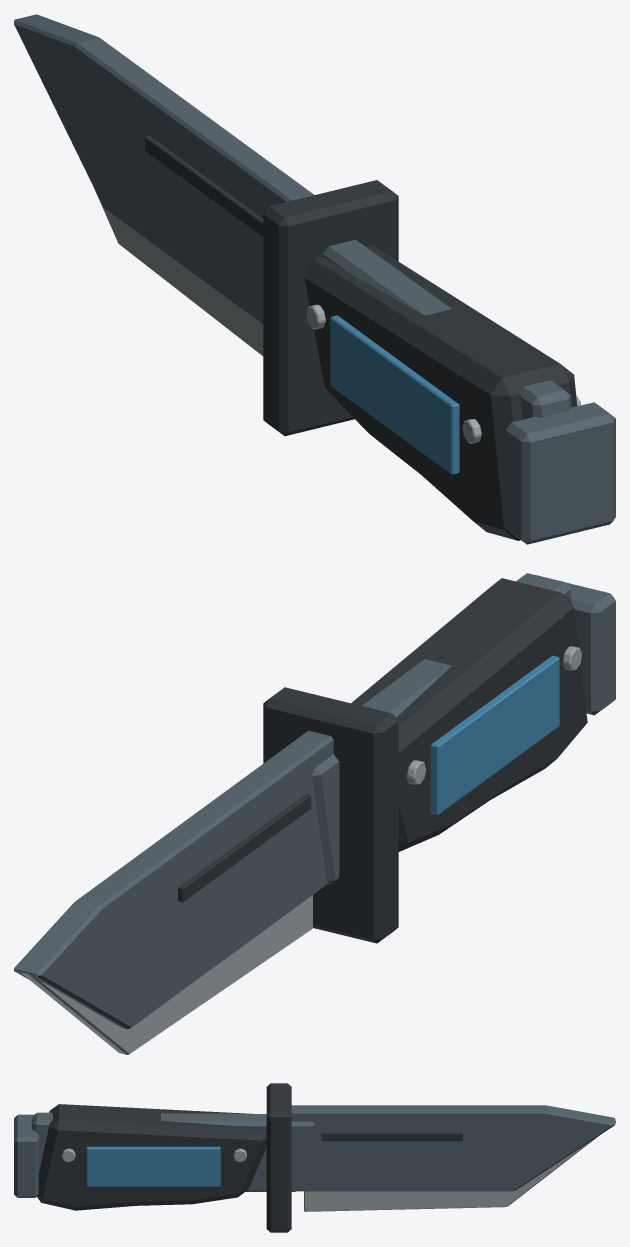
The model's file is wpn_001_survival_knife.glb.
The picture shows the model from 3 angles, top to bottom: view 1: azimuth 30°, elevation 25°; view 2: azimuth 150°, elevation 25°; view 3: azimuth 270°, elevation 25°; orthographic projection. The views are drawn at different scales.
Parts seen in each view (by area): view 1: Mesh; view 2: Mesh; view 3: Mesh.
Boxes of the visible parts, x1,y1,x2,y2 form: Mesh: (14, 14, 615, 544); Mesh: (14, 573, 615, 1054); Mesh: (14, 1083, 615, 1232).
Bounding box in the file's own units: 0.043 × 0.075 × 0.3405.
